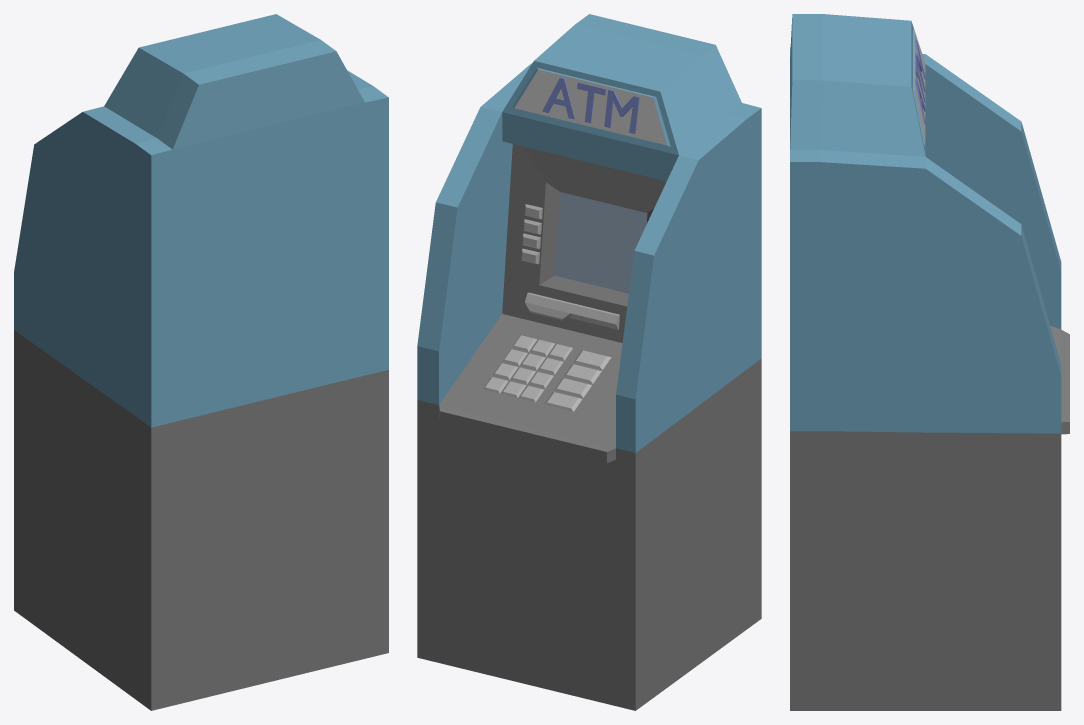
Rendered from atm.fbx.
3 views of the same model, side by side, from view 1: azimuth 30°, elevation 25°; view 2: azimuth 150°, elevation 25°; view 3: azimuth 270°, elevation 25° (orthographic). The views are drawn at different scales.
Parts seen in each view (by area): view 1: ATM; view 2: ATM; view 3: ATM.
Boxes of the visible parts, box(x1,y1,x2,y2) form: ATM: box(14, 14, 388, 710); ATM: box(417, 14, 761, 710); ATM: box(790, 14, 1069, 710).
Bounding box in the file's own units: 0.4053 × 1 × 0.4183.
